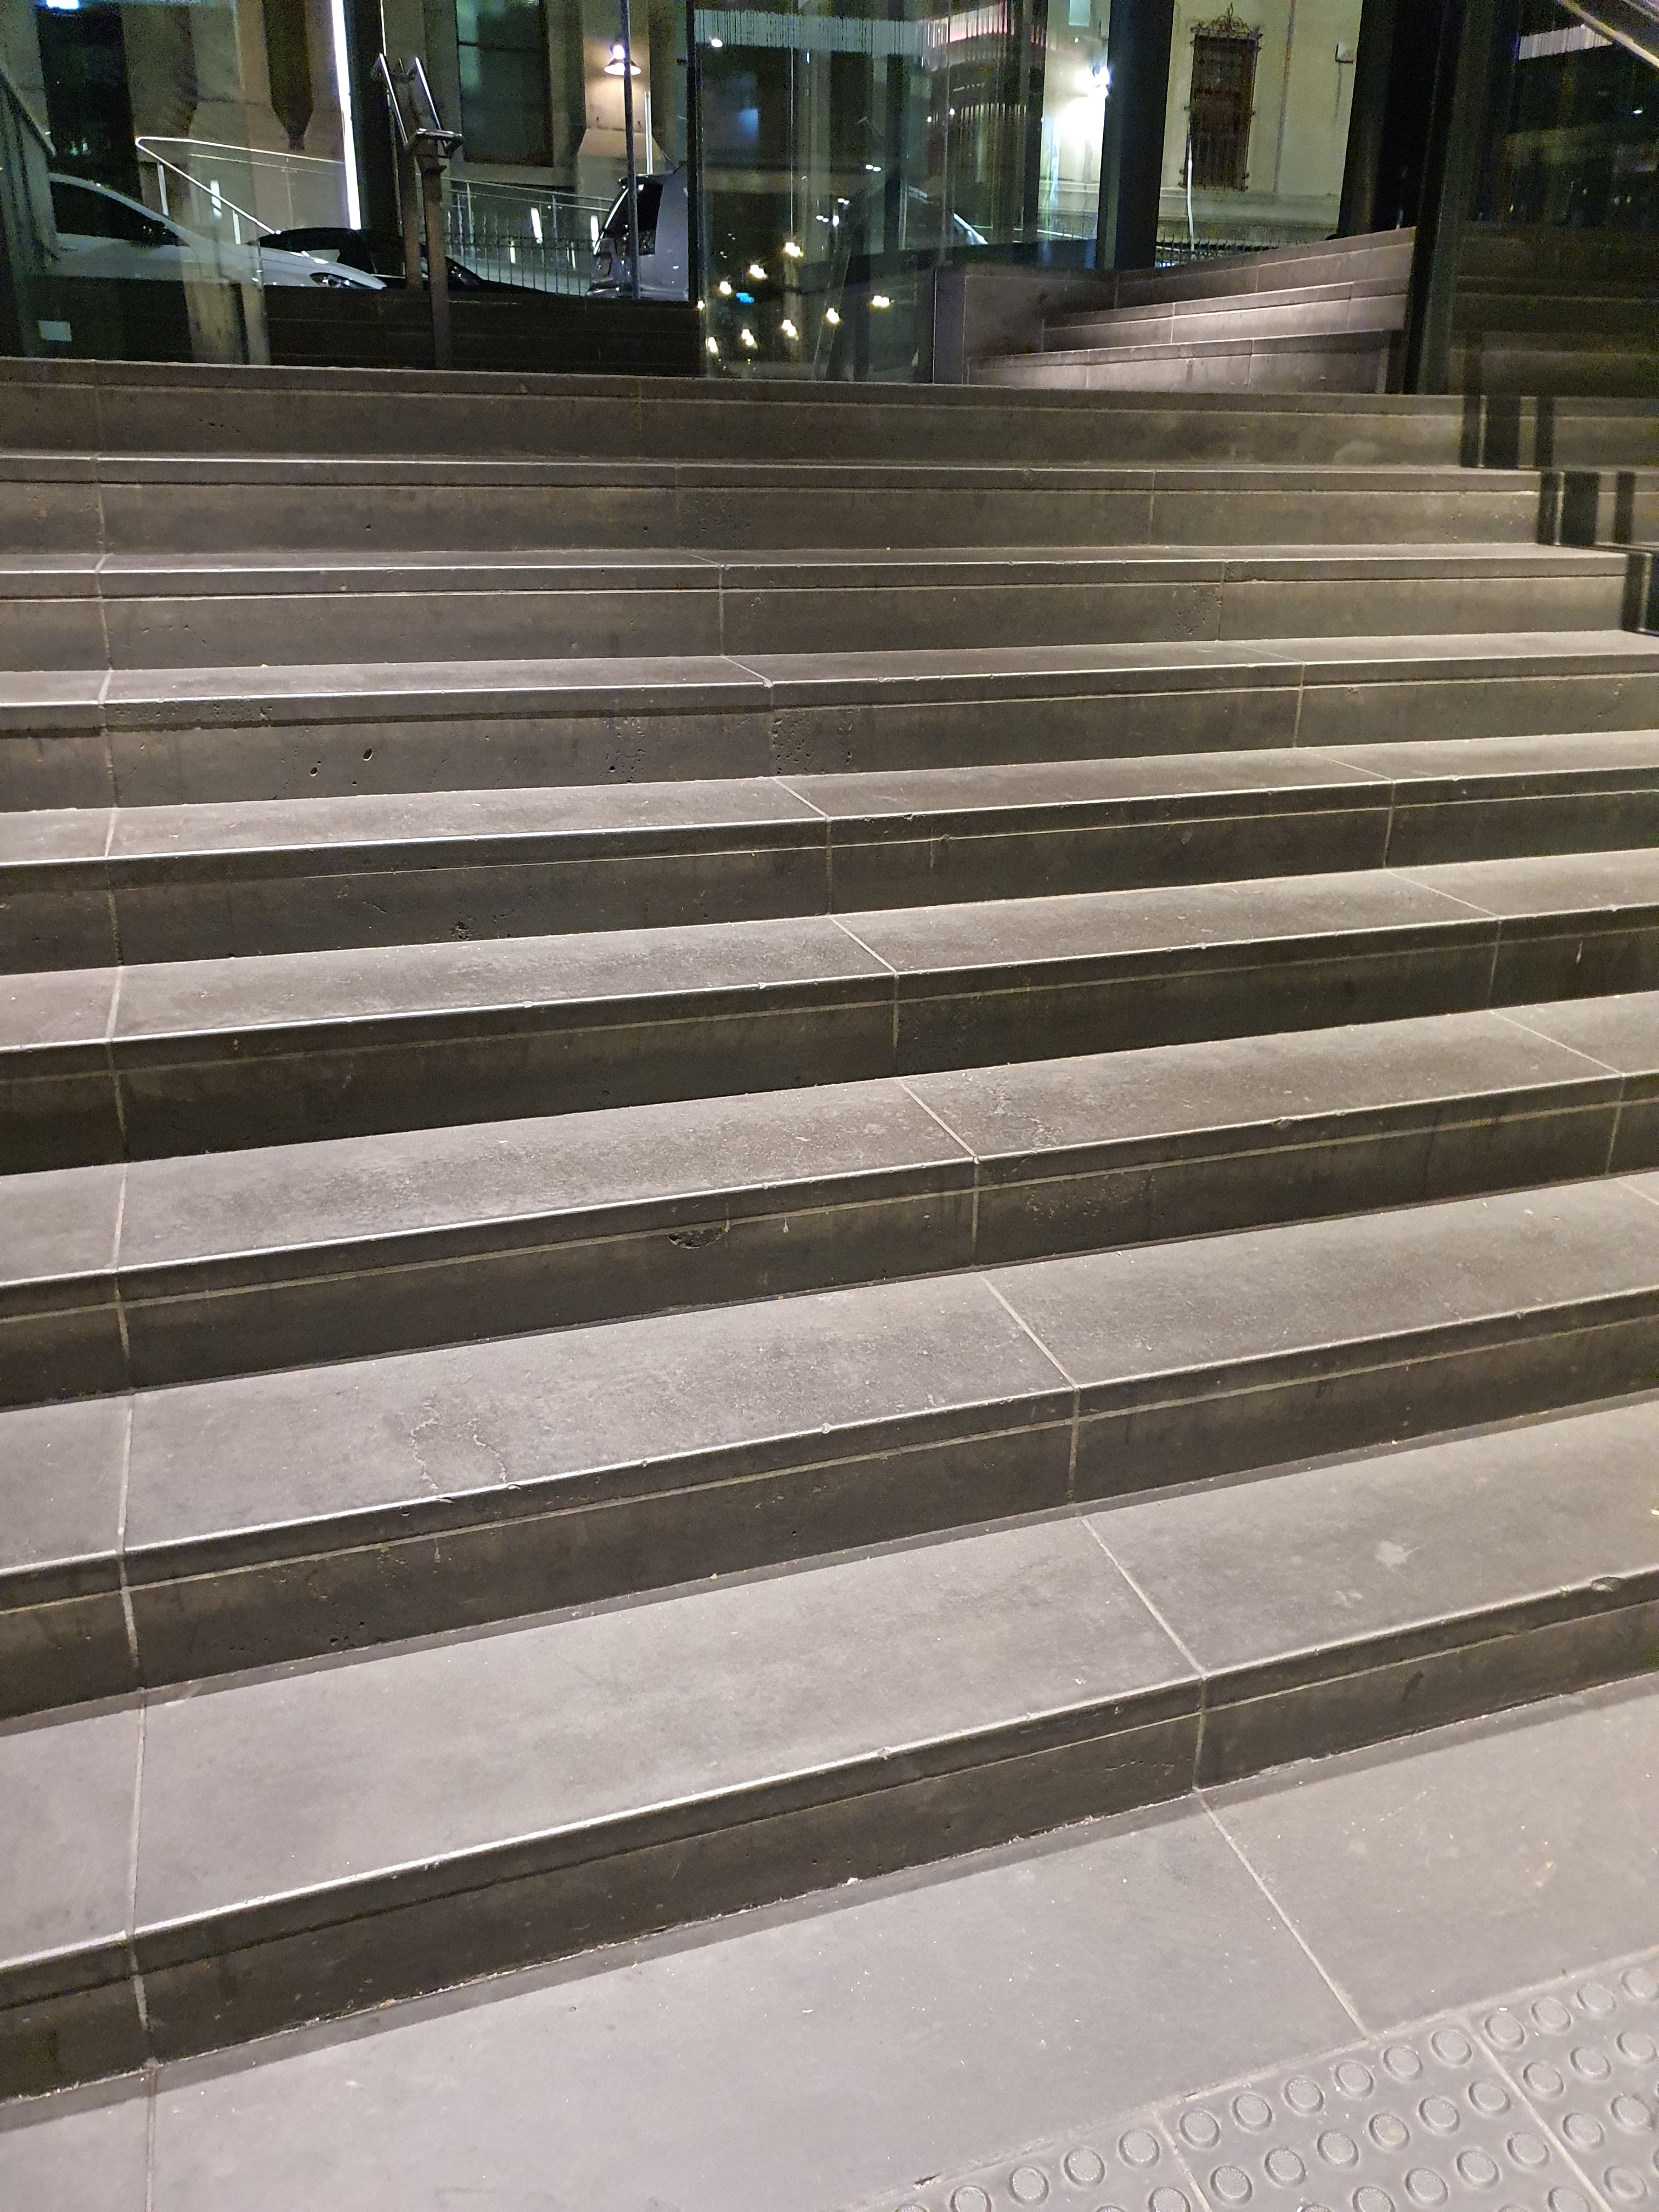upstairs: (23, 880, 1659, 2148)
